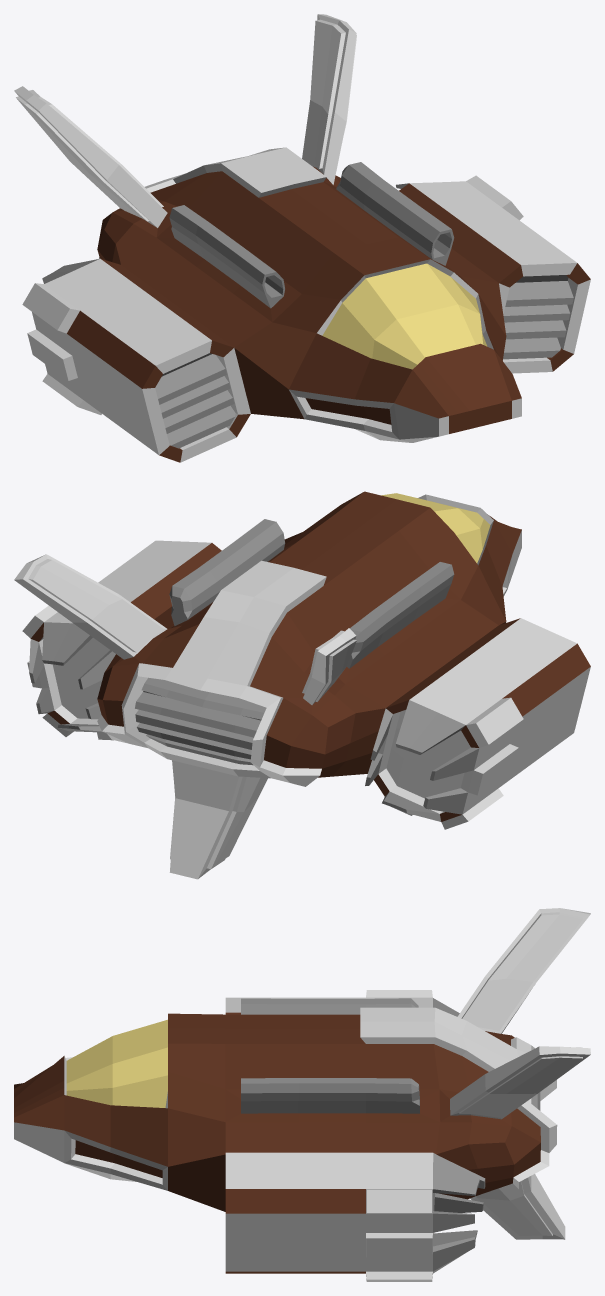
The model's file is Heavy prototype.fbx.
The picture shows the model from 3 angles, top to bottom: view 1: azimuth 30°, elevation 25°; view 2: azimuth 150°, elevation 25°; view 3: azimuth 270°, elevation 25°; orthographic projection. The views are drawn at different scales.
Visible parts, largest first — view 1: brown heavy; view 2: brown heavy; view 3: brown heavy.
Boxes of the visible parts, x1,y1,x2,y2 form: brown heavy: [14, 14, 590, 462]; brown heavy: [14, 491, 590, 879]; brown heavy: [14, 908, 590, 1281].
Size of the model in its own units: 222 by 256 by 125.
